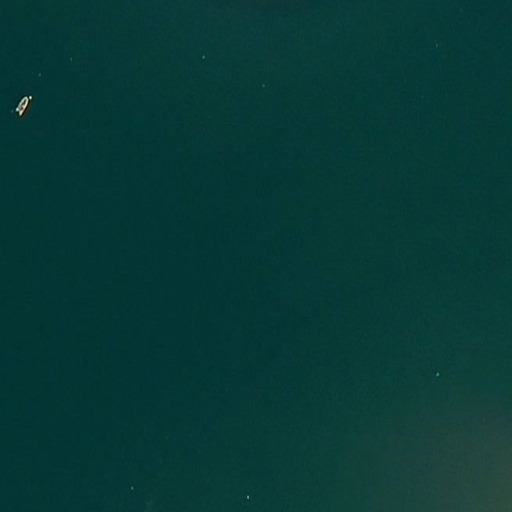ship: (14, 94, 29, 117)
